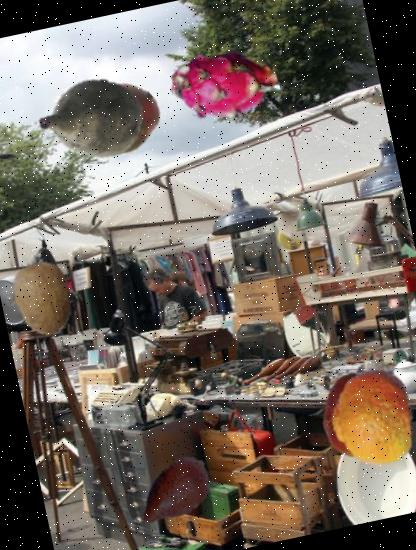Beetroot: (26, 54, 154, 181)
Kiwi: (0, 252, 88, 341)
Mandarine: (314, 360, 416, 477)
Nectarine: (307, 367, 405, 465)
Pitahaya: (163, 28, 288, 152)
Salak: (125, 442, 228, 546)
Tomato: (80, 75, 166, 162)
